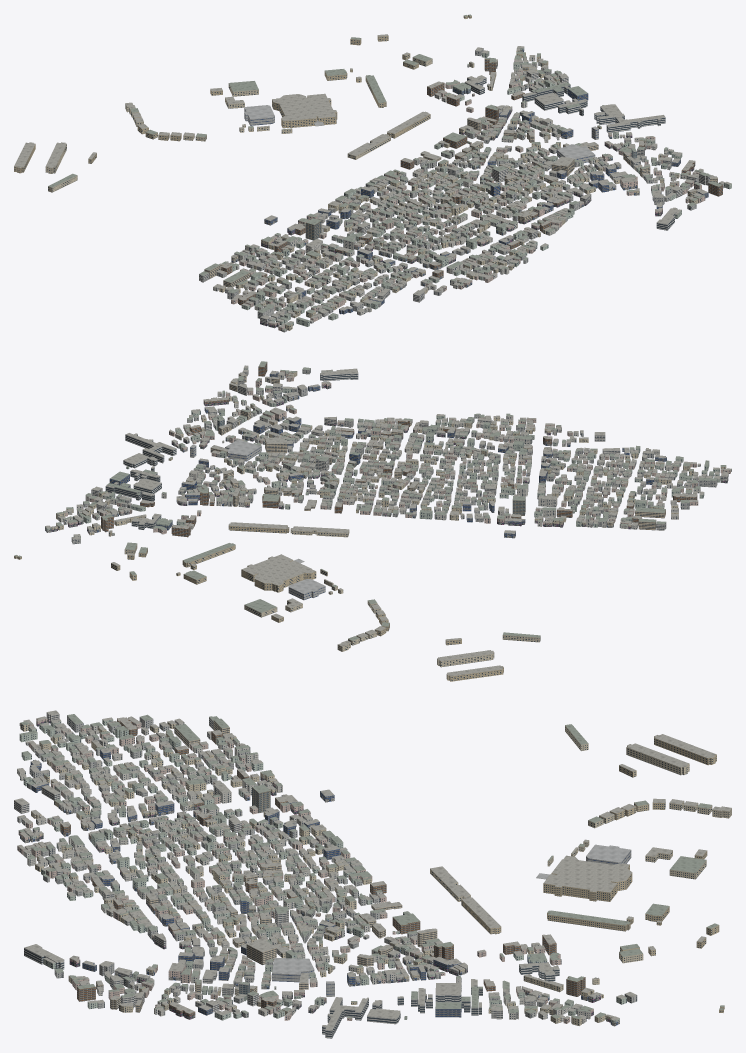
The model's file is ArahaTown_Block_E01024_S02048.gltf.
3 renders of one model, top to bottom at view 1: azimuth 30°, elevation 25°; view 2: azimuth 150°, elevation 25°; view 3: azimuth 270°, elevation 25°, orthographic. The views are drawn at different scales.
Visible parts, largest first — view 1: ArahaTown_Block_E01024_S02048; view 2: ArahaTown_Block_E01024_S02048; view 3: ArahaTown_Block_E01024_S02048.
Boxes of the visible parts, x1=… form: ArahaTown_Block_E01024_S02048: x1=14, y1=14, x2=731, y2=332; ArahaTown_Block_E01024_S02048: x1=14, y1=361, x2=731, y2=681; ArahaTown_Block_E01024_S02048: x1=14, y1=710, x2=731, y2=1038.
Bounding box in the file's own units: 1117 × 77.95 × 1048.
22 materials, 21 textured.
